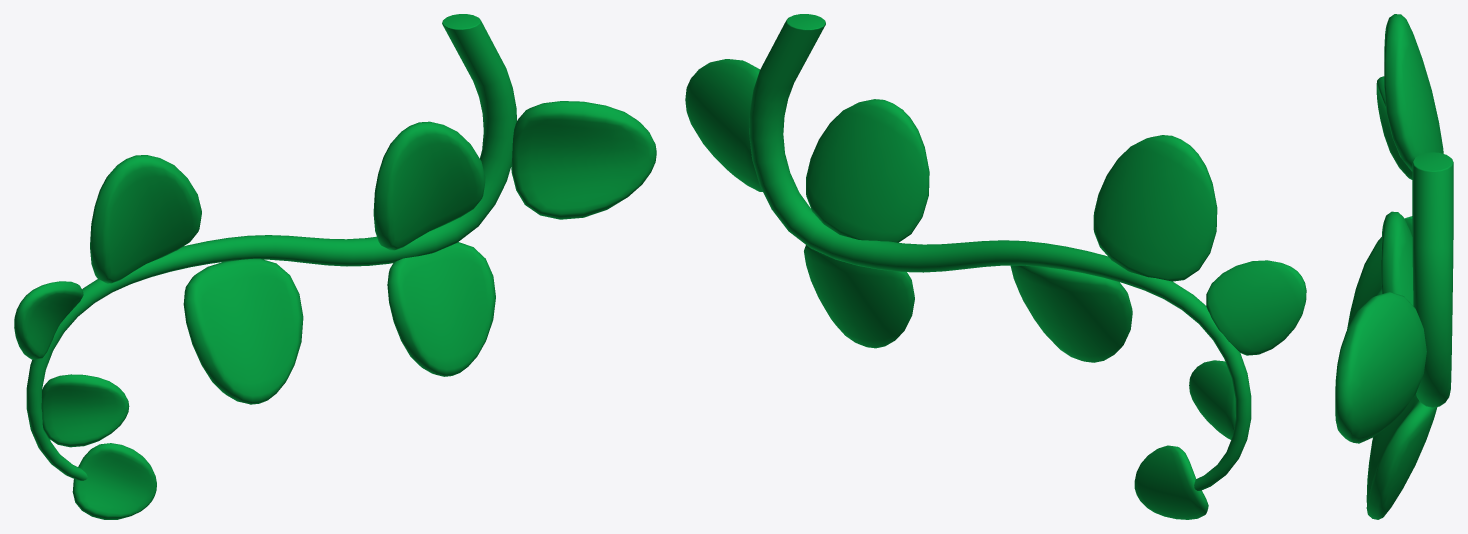
The model's file is Town_11_Liana_1.glb.
3 views of the same model, side by side, from view 1: azimuth 30°, elevation 25°; view 2: azimuth 150°, elevation 25°; view 3: azimuth 270°, elevation 25° (orthographic). The views are drawn at different scales.
Parts seen in each view (by area): view 1: Town_11_Liana_1; view 2: Town_11_Liana_1; view 3: Town_11_Liana_1.
Part boxes in pixels (bbox=[...]): Town_11_Liana_1: bbox=[14, 14, 656, 519]; Town_11_Liana_1: bbox=[685, 14, 1306, 519]; Town_11_Liana_1: bbox=[1335, 14, 1453, 519].
Bounding box in the file's own units: 2.77 × 1.73 × 0.399.
1 material, 1 textured.
